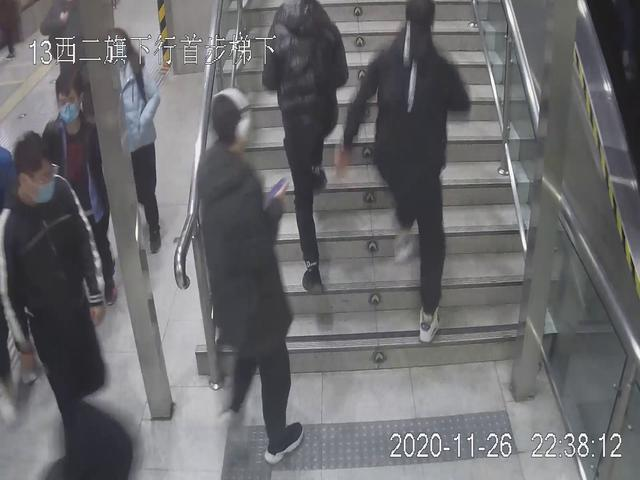person: (331, 1, 472, 348), (193, 87, 309, 466), (1, 129, 113, 458), (261, 1, 350, 293), (38, 67, 121, 302), (88, 26, 170, 255)
